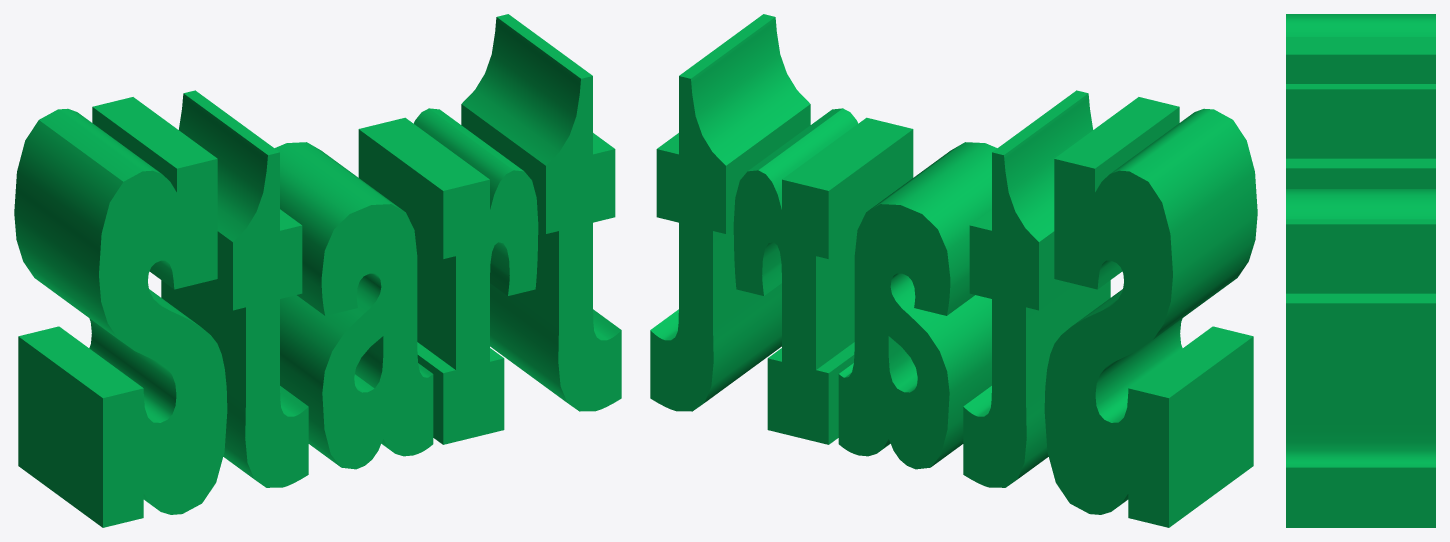
File: Start.fbx
3 views of the same model, side by side, from view 1: azimuth 30°, elevation 25°; view 2: azimuth 150°, elevation 25°; view 3: azimuth 270°, elevation 25° (orthographic). The views are drawn at different scales.
Parts seen in each view (by area): view 1: typeMesh1; view 2: typeMesh1; view 3: typeMesh1.
Part boxes in pixels (x1,y1,x2,y2): typeMesh1: (14, 14, 621, 527); typeMesh1: (650, 14, 1257, 527); typeMesh1: (1286, 14, 1435, 527).
Size of the model in its own units: 8.92 by 5.74 by 2.5.
